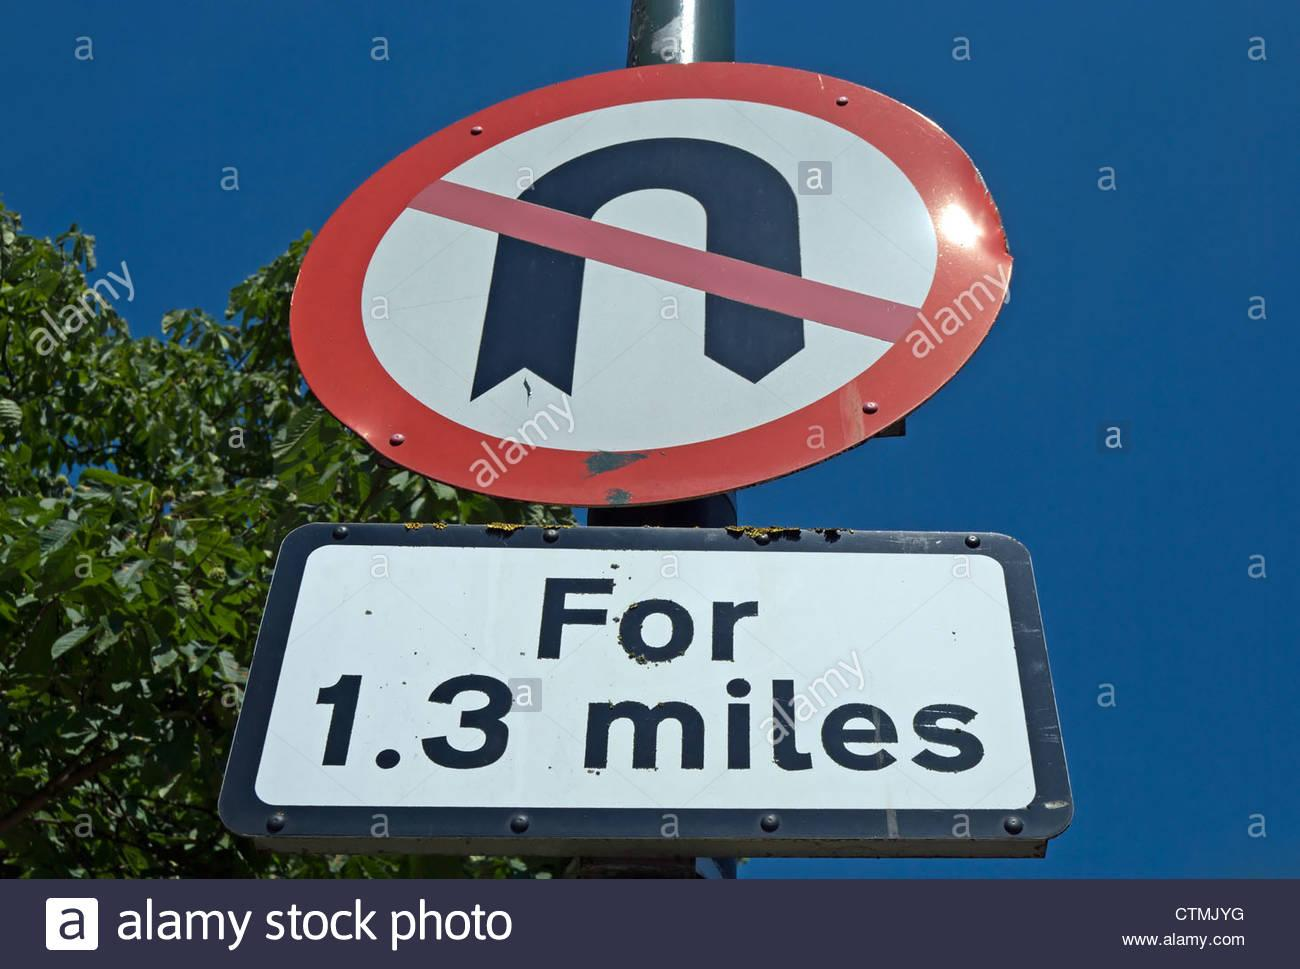no_u_turn: (288, 60, 1017, 506)
